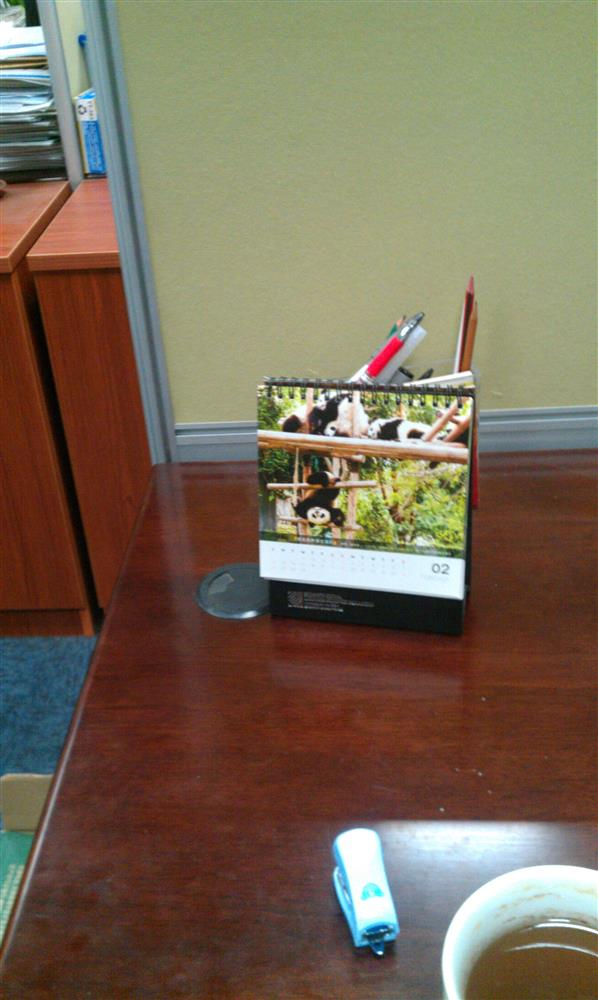panda_calendar: (250, 370, 480, 633)
